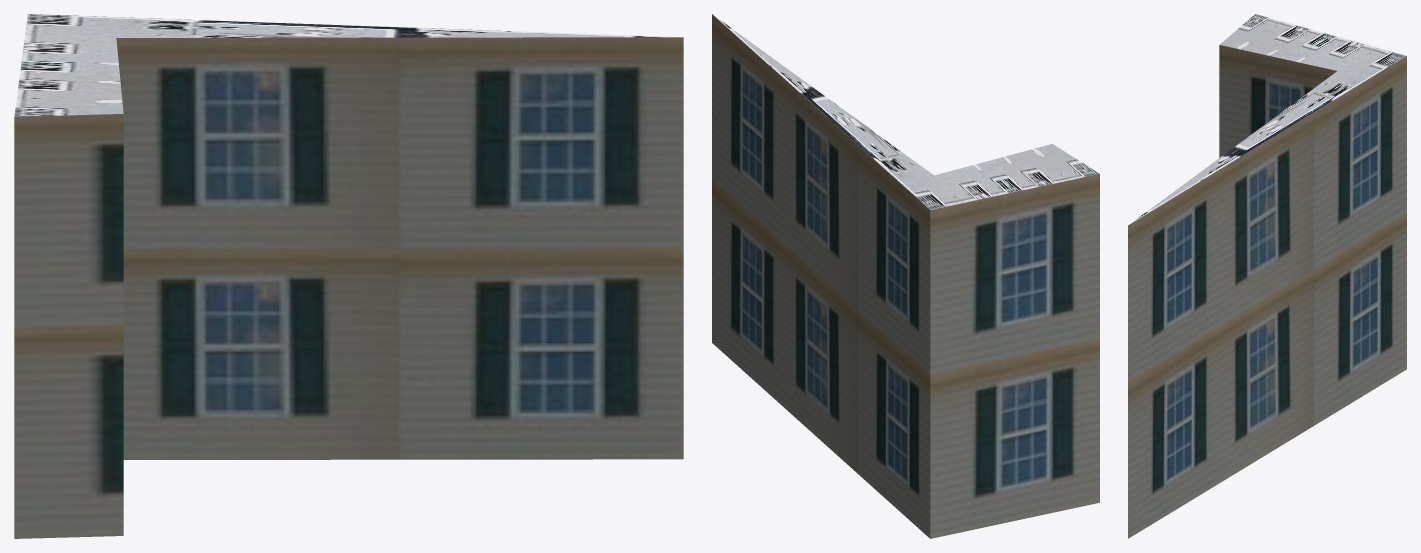
File: ResTex__3730.fbx
The picture shows the model from 3 angles, left to right: view 1: azimuth 30°, elevation 25°; view 2: azimuth 150°, elevation 25°; view 3: azimuth 270°, elevation 25°; orthographic projection. The views are drawn at different scales.
Visible parts, largest first — view 1: CityEngineMaterial_7_m, CityEngineMaterial_8_m; view 2: CityEngineMaterial_7_m, CityEngineMaterial_8_m; view 3: CityEngineMaterial_7_m, CityEngineMaterial_8_m.
Part boxes in pixels (box(x1,y1,x2,y2)): CityEngineMaterial_7_m: box(14, 37, 683, 538); CityEngineMaterial_8_m: box(14, 14, 679, 116); CityEngineMaterial_7_m: box(712, 14, 1099, 538); CityEngineMaterial_8_m: box(713, 15, 1099, 209); CityEngineMaterial_7_m: box(1128, 45, 1406, 538); CityEngineMaterial_8_m: box(1129, 14, 1406, 224).
Bounding box in the file's own units: 8.68 × 6 × 4.84.
2 materials, 2 textured.
